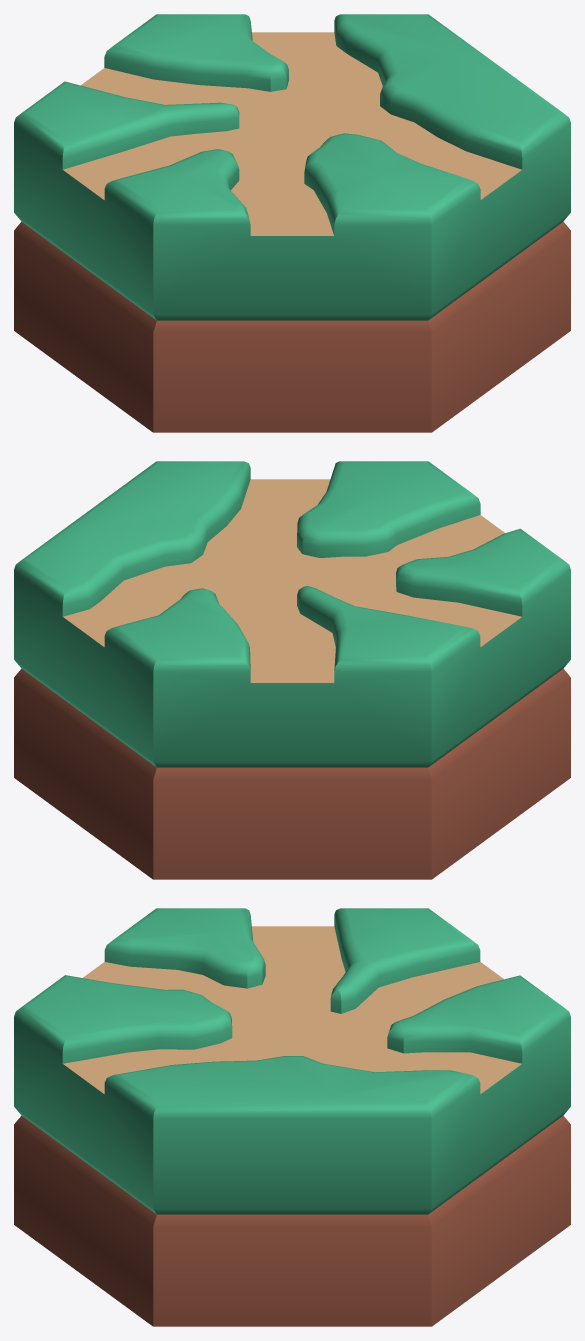
The model's file is hex_forest_roadl_detail.glb.
3 renders of one model, top to bottom at view 1: azimuth 30°, elevation 25°; view 2: azimuth 150°, elevation 25°; view 3: azimuth 270°, elevation 25°, orthographic.
Visible parts, largest first — view 1: hex_forest_roadL_detail; view 2: hex_forest_roadL_detail; view 3: hex_forest_roadL_detail.
Part boxes in pixels (x1,y1,x2,y2): hex_forest_roadL_detail: [14, 14, 570, 432]; hex_forest_roadL_detail: [14, 461, 570, 879]; hex_forest_roadL_detail: [14, 908, 570, 1326].
Size of the model in its own units: 8 by 4 by 9.24.
